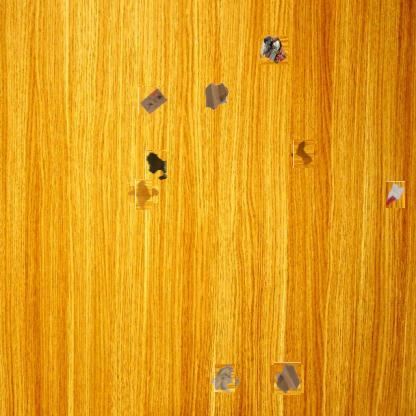dirty: (272, 364, 303, 394), (203, 80, 231, 112), (259, 36, 289, 64), (138, 86, 167, 114), (212, 366, 238, 391), (292, 142, 316, 167), (385, 181, 405, 208)
liquid: (145, 150, 168, 180), (132, 182, 156, 207)
